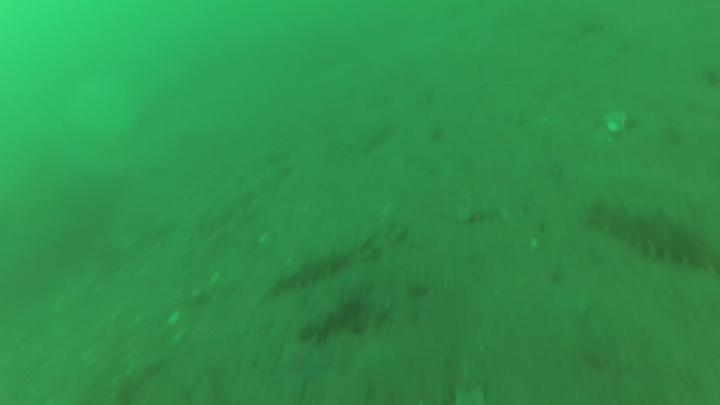holothurian: (590, 199, 717, 272), (300, 284, 369, 339), (262, 252, 348, 290)
starfish: (272, 347, 331, 398)
